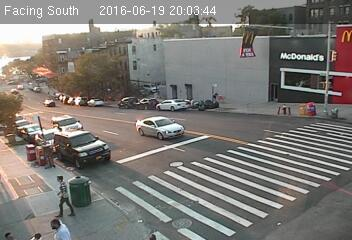neg: (194, 154, 219, 188), (66, 58, 91, 91), (300, 98, 322, 127), (159, 149, 180, 178), (66, 128, 87, 156), (288, 154, 307, 181), (293, 44, 312, 70), (105, 145, 124, 171), (95, 76, 114, 100), (29, 85, 47, 110), (243, 34, 260, 57), (240, 161, 257, 184), (143, 76, 160, 98), (238, 102, 254, 124), (32, 133, 48, 155), (278, 98, 293, 118), (199, 98, 210, 112), (193, 60, 202, 73)
pos: (50, 172, 77, 209), (50, 215, 64, 233)
